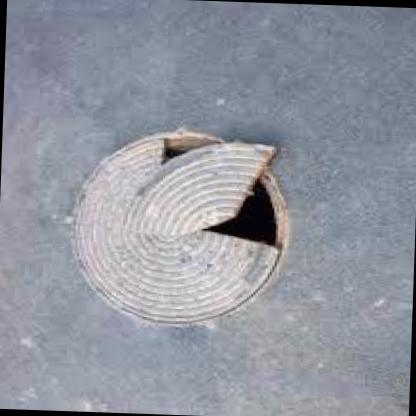manholes: (26, 90, 341, 359)
